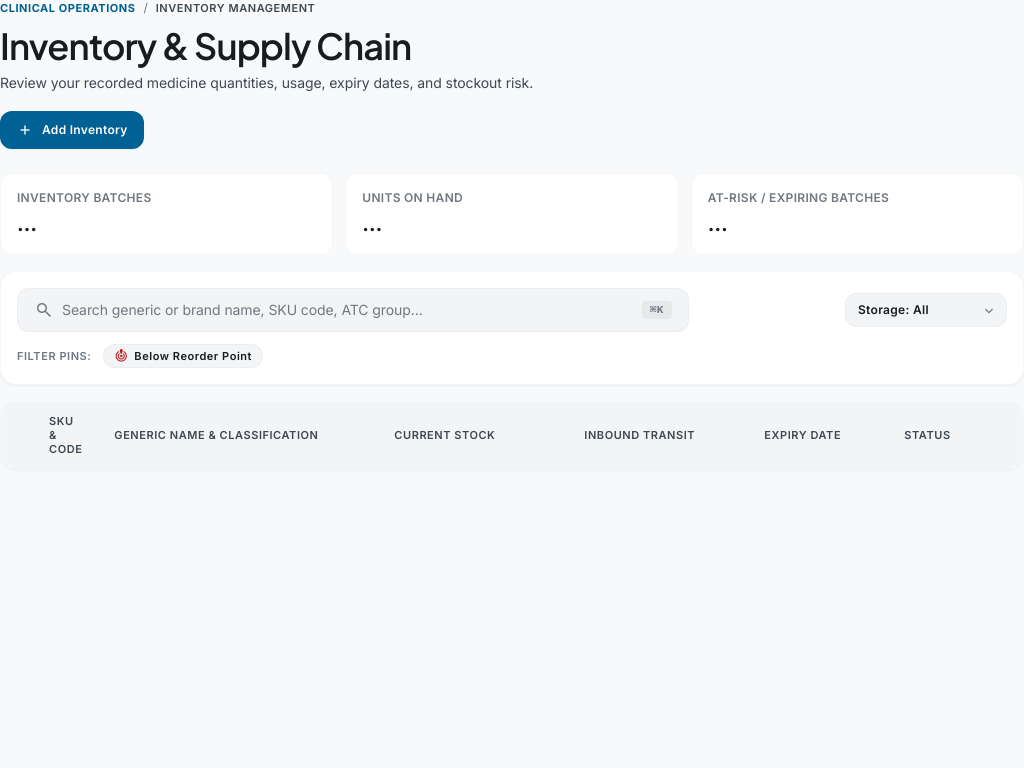
it: PulseGrid Control Tower Test Suite › InventorySKUsView Component › persists a new inventory batch through the hospital API
Click the button "Add Inventory": x=72, y=130 [0,111,144,149]
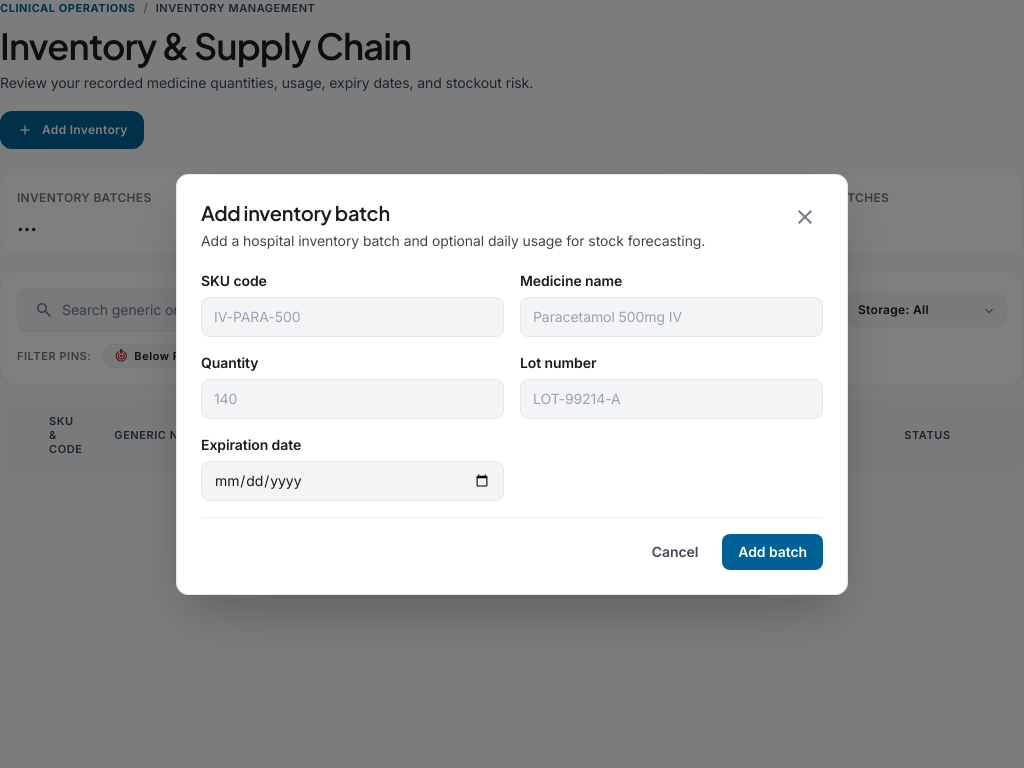
Expected: the field labelled "Average daily use" is not shown
Expected: the column heading "Expiry Date" is shown, [748,402,888,468]
In the field labelled "SKU code": x=352, y=316 [201,296,504,336], type "MED-TEST-001"
In the field labelled "Medicine name": x=672, y=316 [520,296,823,336], type "Test Saline Infusion"
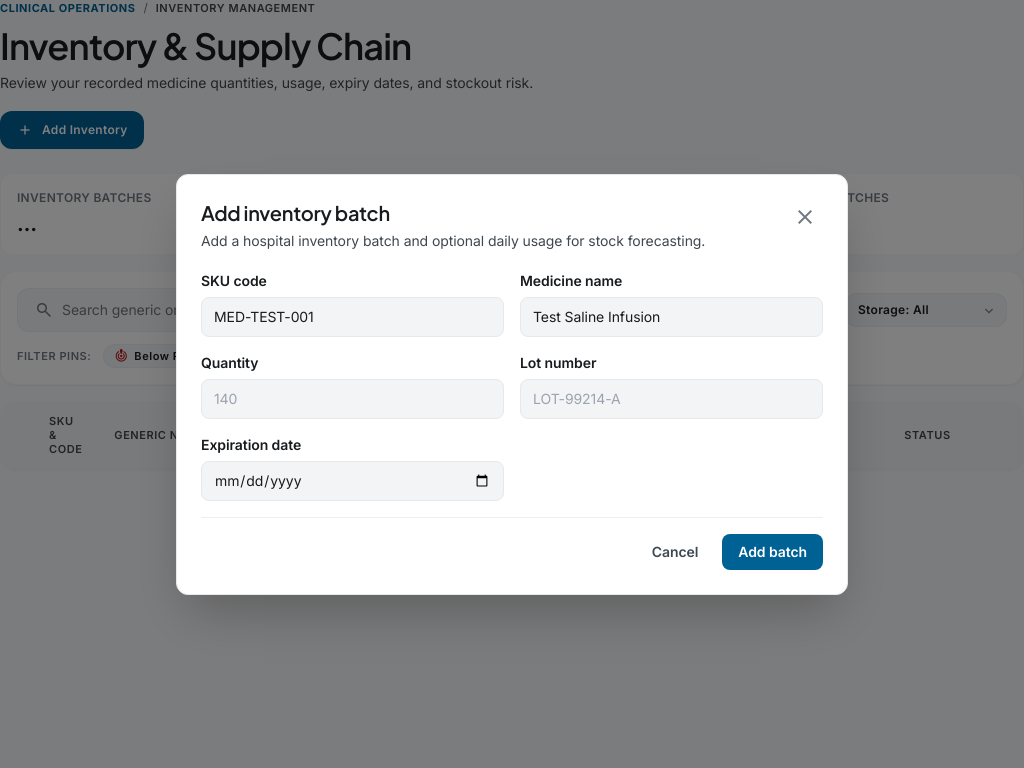
In the number field labelled "Quantity": x=352, y=398 [201,378,504,418], type "24"
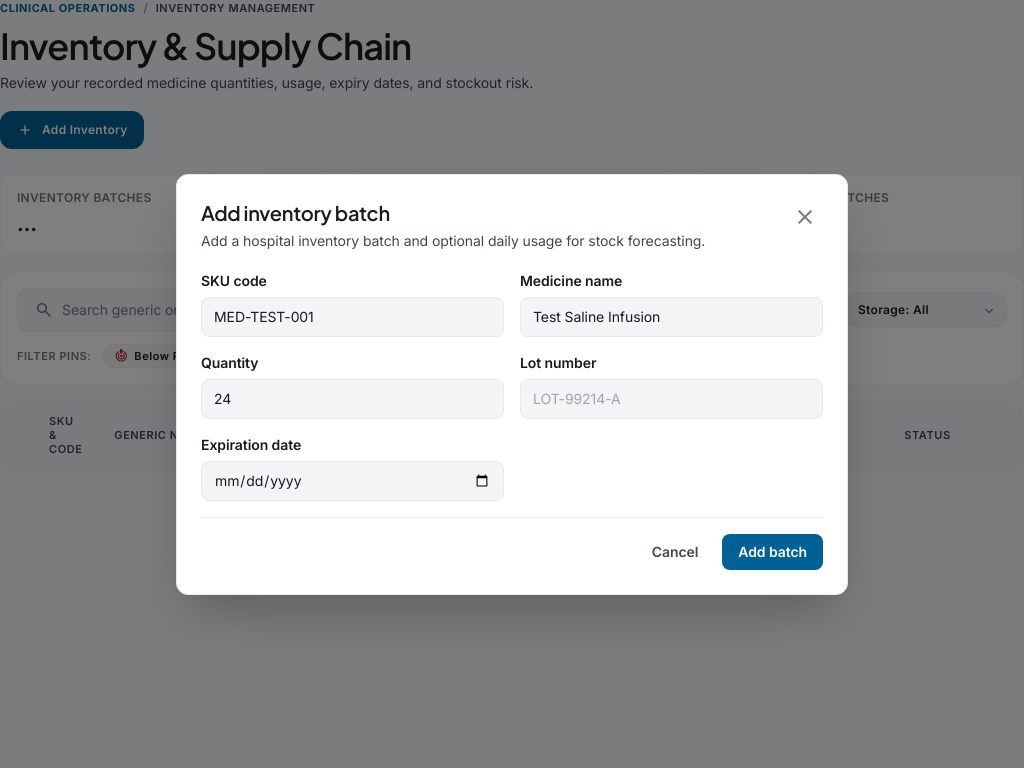
In the field labelled "Lot number": x=672, y=398 [520,378,823,418], type "LOT-TEST-24"
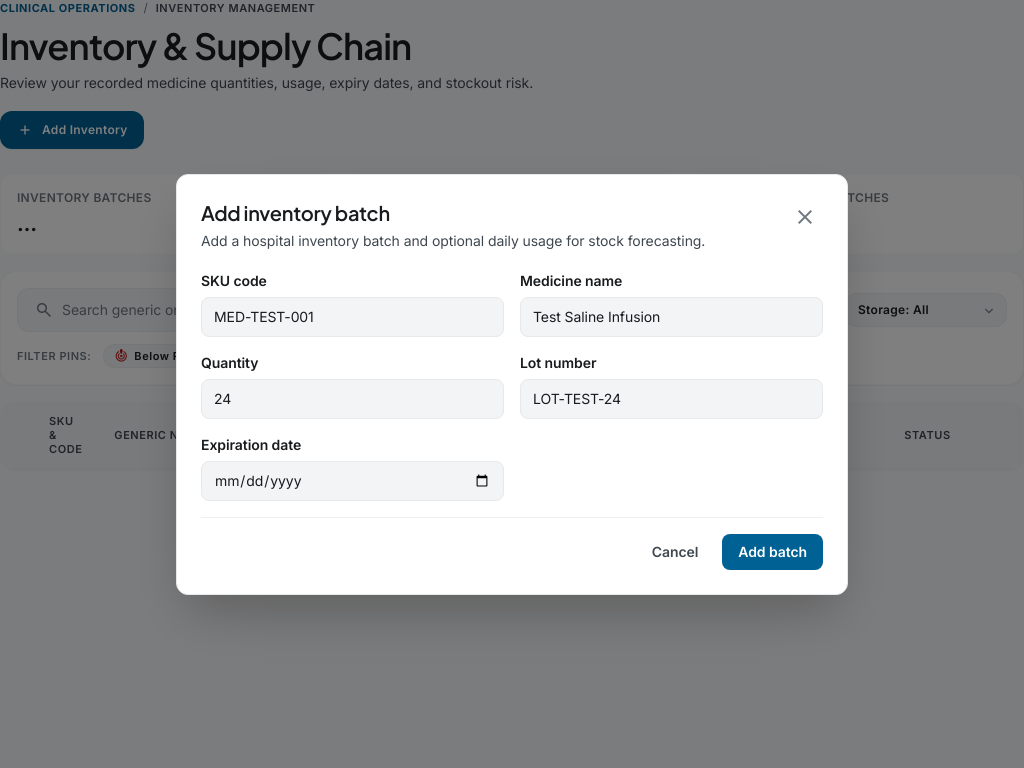
In the date field labelled "Expiration date": x=352, y=480 [201,460,504,500], type "2027-04-30"
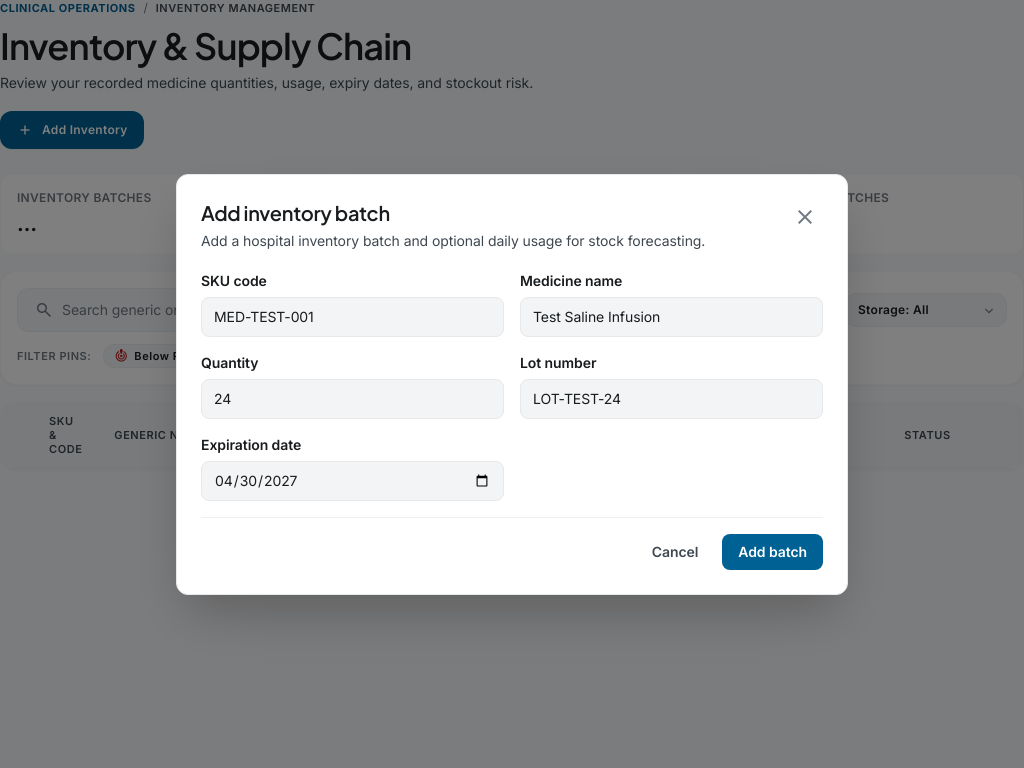
Click the button "Add batch": x=773, y=552 [722,534,823,570]
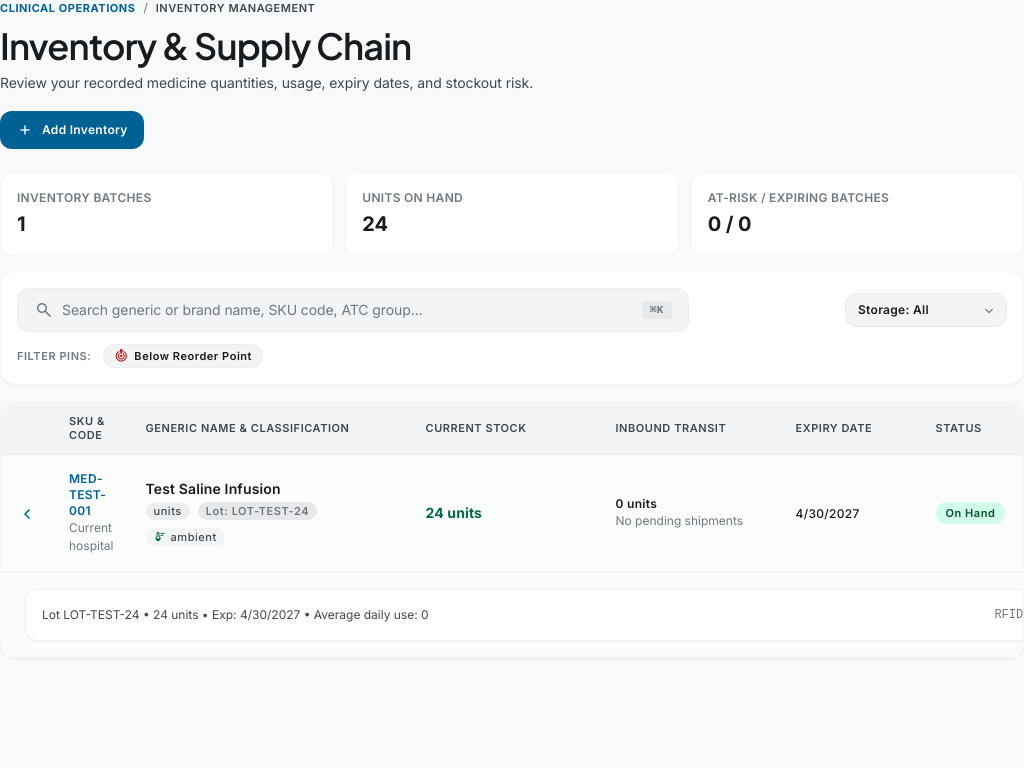
Expected: the text "MED-TEST-001" is shown, [69,471,106,518]
Expected: the text "Test Saline Infusion" is shown, [146,480,281,497]
Expected: the text "24 units" is shown, [426,504,482,521]
